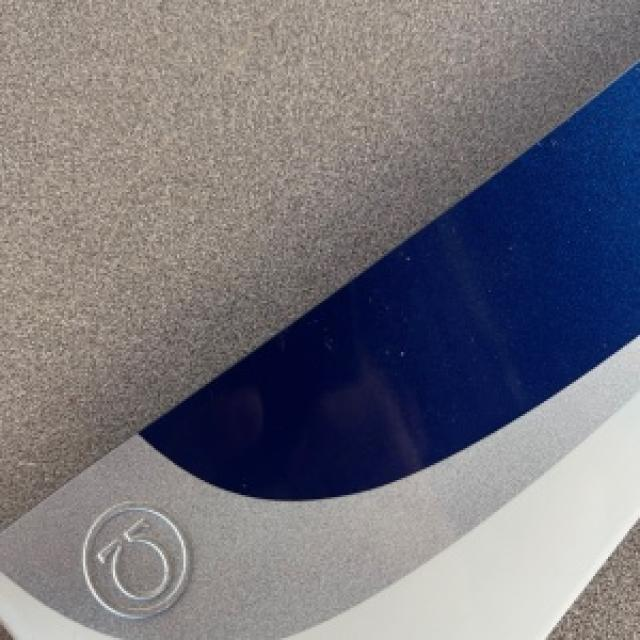healthy: (550, 523, 638, 638)
